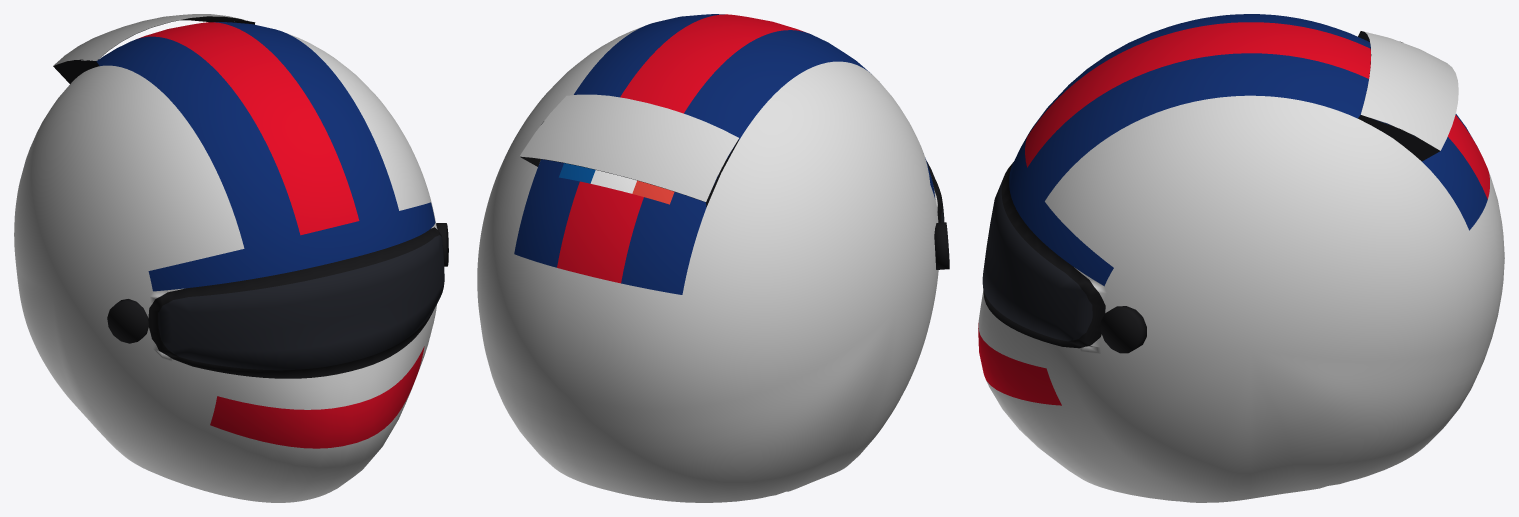
File: HAD.glb
3 renders of one model, left to right at view 1: azimuth 30°, elevation 25°; view 2: azimuth 150°, elevation 25°; view 3: azimuth 270°, elevation 25°, orthographic. The views are drawn at different scales.
Visible parts, largest first — view 1: helmet; view 2: helmet; view 3: helmet.
Boxes of the visible parts, x1,y1,x2,y2 form: helmet: [14, 14, 448, 502]; helmet: [477, 14, 949, 502]; helmet: [978, 14, 1504, 502].
Size of the model in its own units: 0.256 by 0.2772 by 0.3111.
